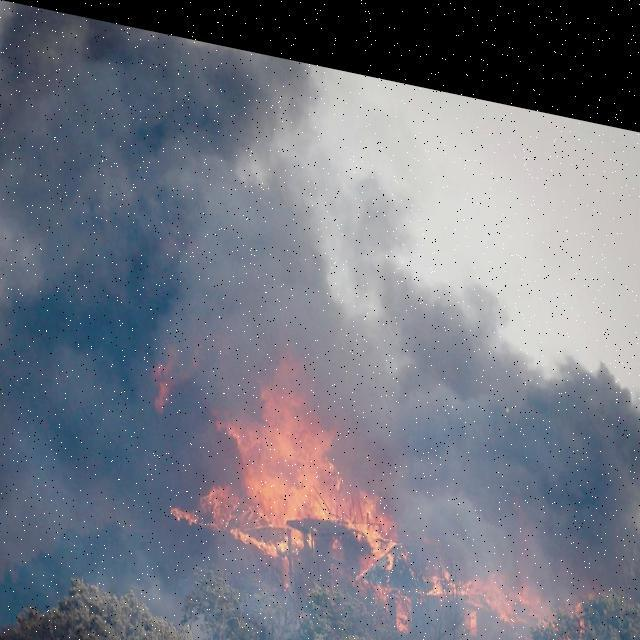Fire: (139, 302, 406, 578), (426, 524, 574, 616)
